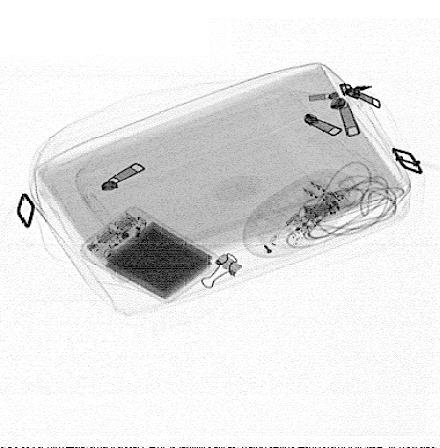Powerbank: (78, 206, 219, 304)
